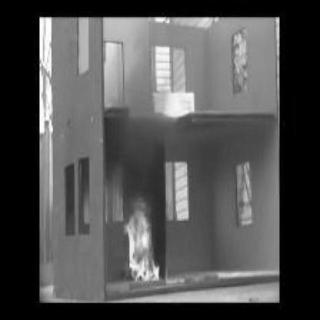Fire: (126, 191, 164, 283)
